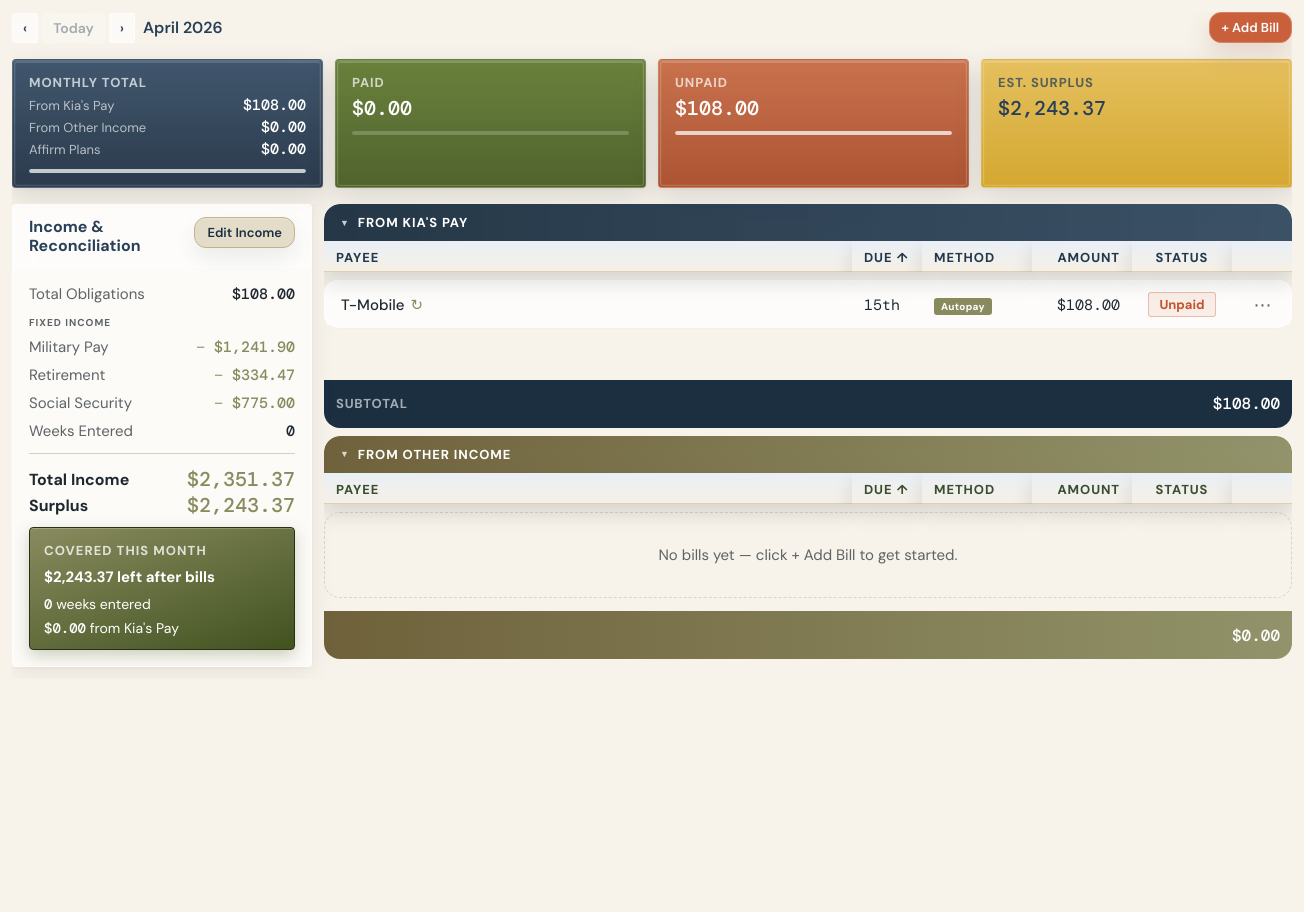
Scenario: AccountsTab — edit bill › opens BillForm in edit mode when Edit is clicked on a bill (handleEdit)
The image size is (1304, 912).
Click the button named "actions for t-mobile".
click(1262, 304)  # box top-left (1248, 294), bottom-right (1278, 316)
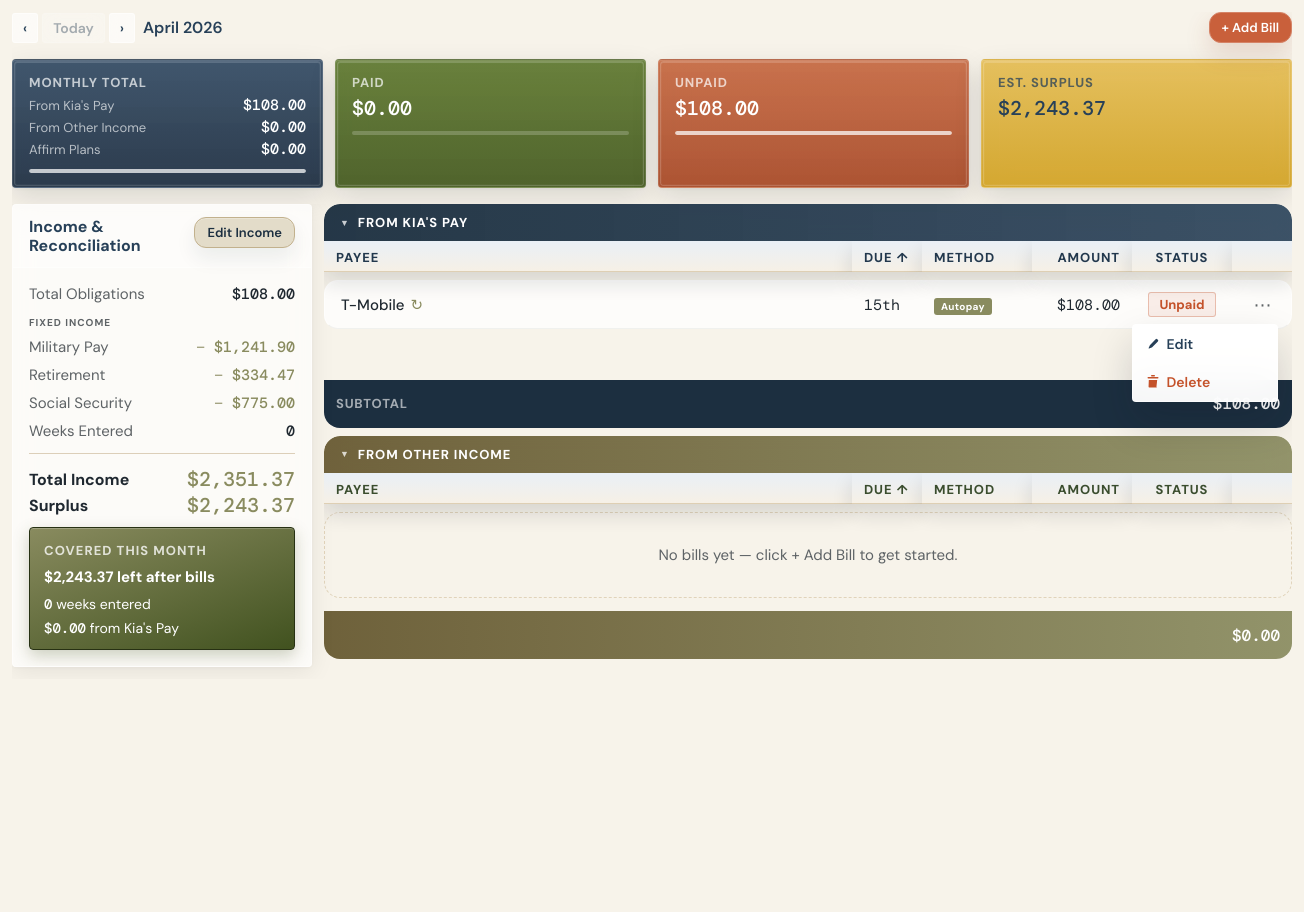
Click the menu item with aria-label "edit t-mobile".
click(1204, 344)  # box top-left (1132, 324), bottom-right (1276, 362)
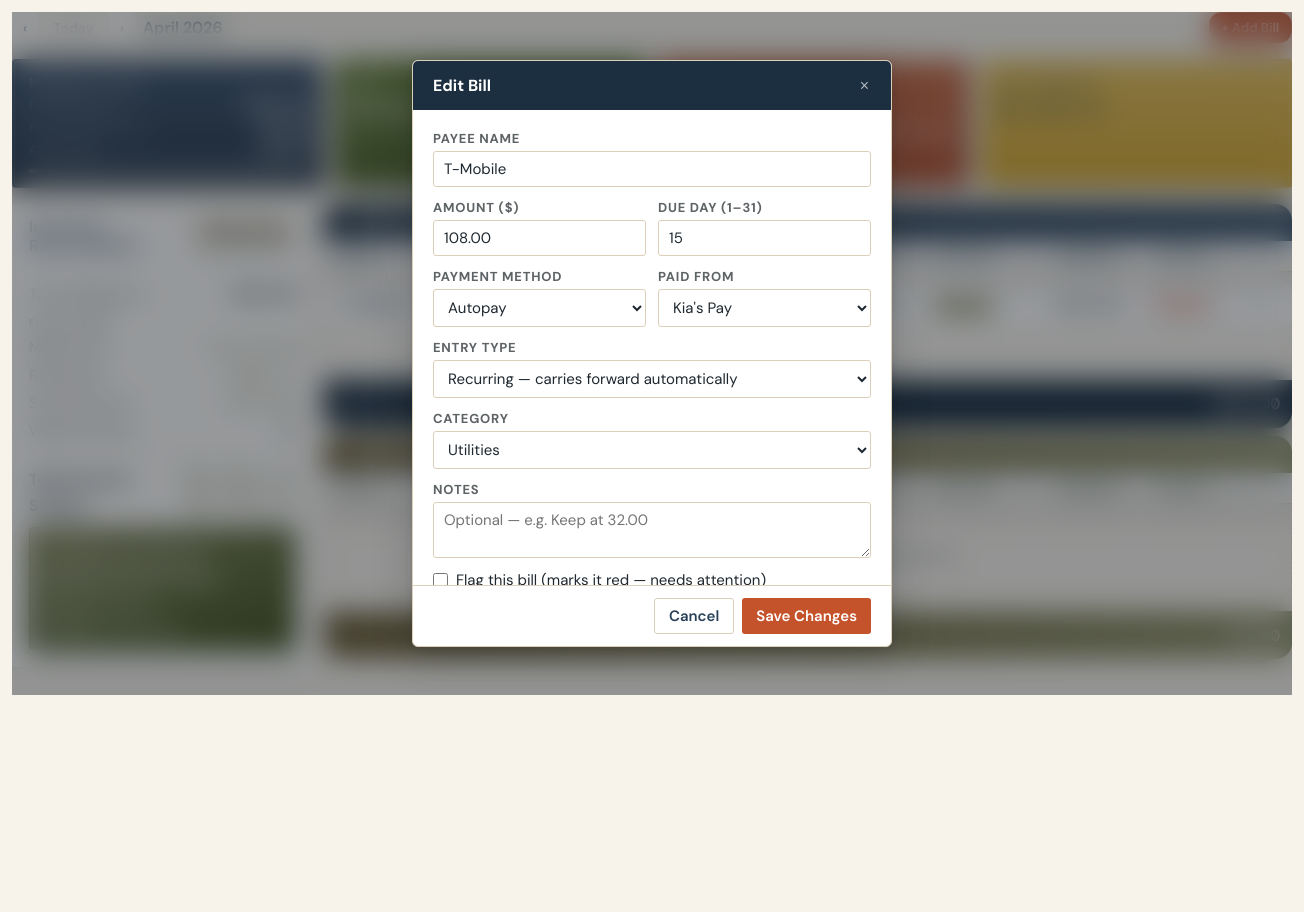
Expected: the heading "Edit Bill" is shown, top-left (433, 75), bottom-right (491, 96)
